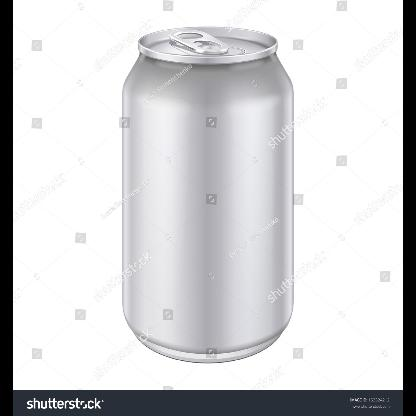Tin_Can: (115, 20, 300, 370)
